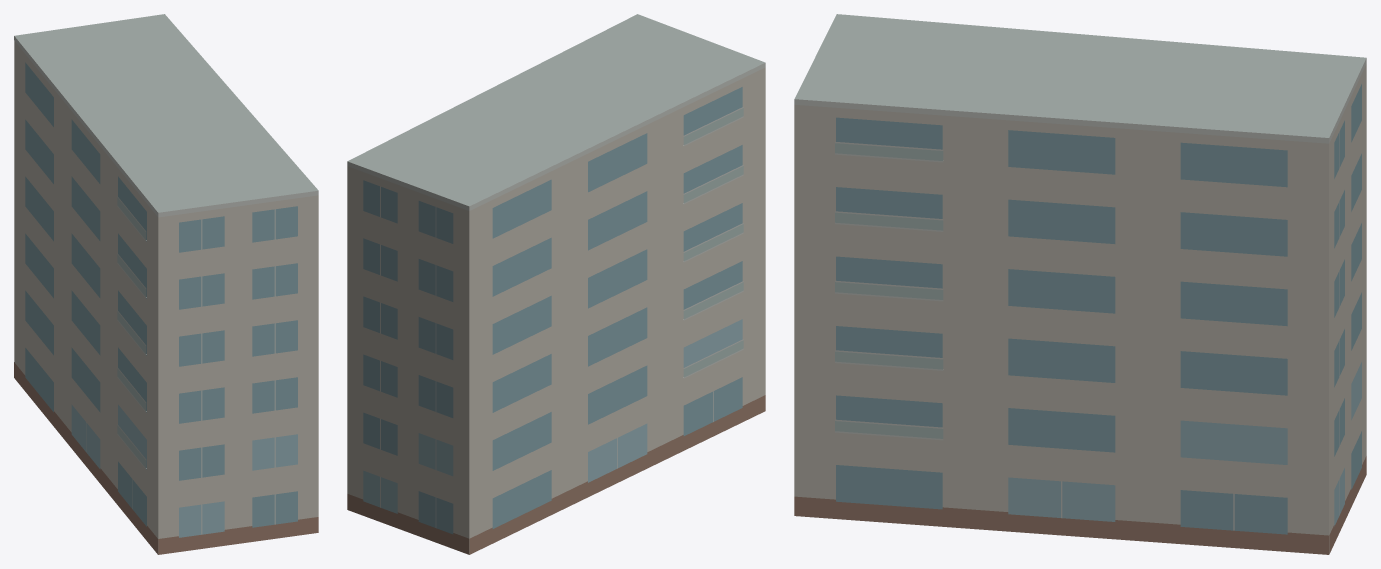
File: survey-upis-32869214.glb
3 views of the same model, side by side, from view 1: azimuth 30°, elevation 25°; view 2: azimuth 150°, elevation 25°; view 3: azimuth 270°, elevation 25° (orthographic). The views are drawn at different scales.
Visible parts, largest first — view 1: survey-upis-32869214.tmp; view 2: survey-upis-32869214.tmp; view 3: survey-upis-32869214.tmp.
Boxes of the visible parts, x1,y1,x2,y2 form: survey-upis-32869214.tmp: [14, 14, 318, 554]; survey-upis-32869214.tmp: [347, 14, 765, 554]; survey-upis-32869214.tmp: [794, 14, 1366, 554].
Size of the model in its own units: 11.56 by 18.1 by 22.53.
